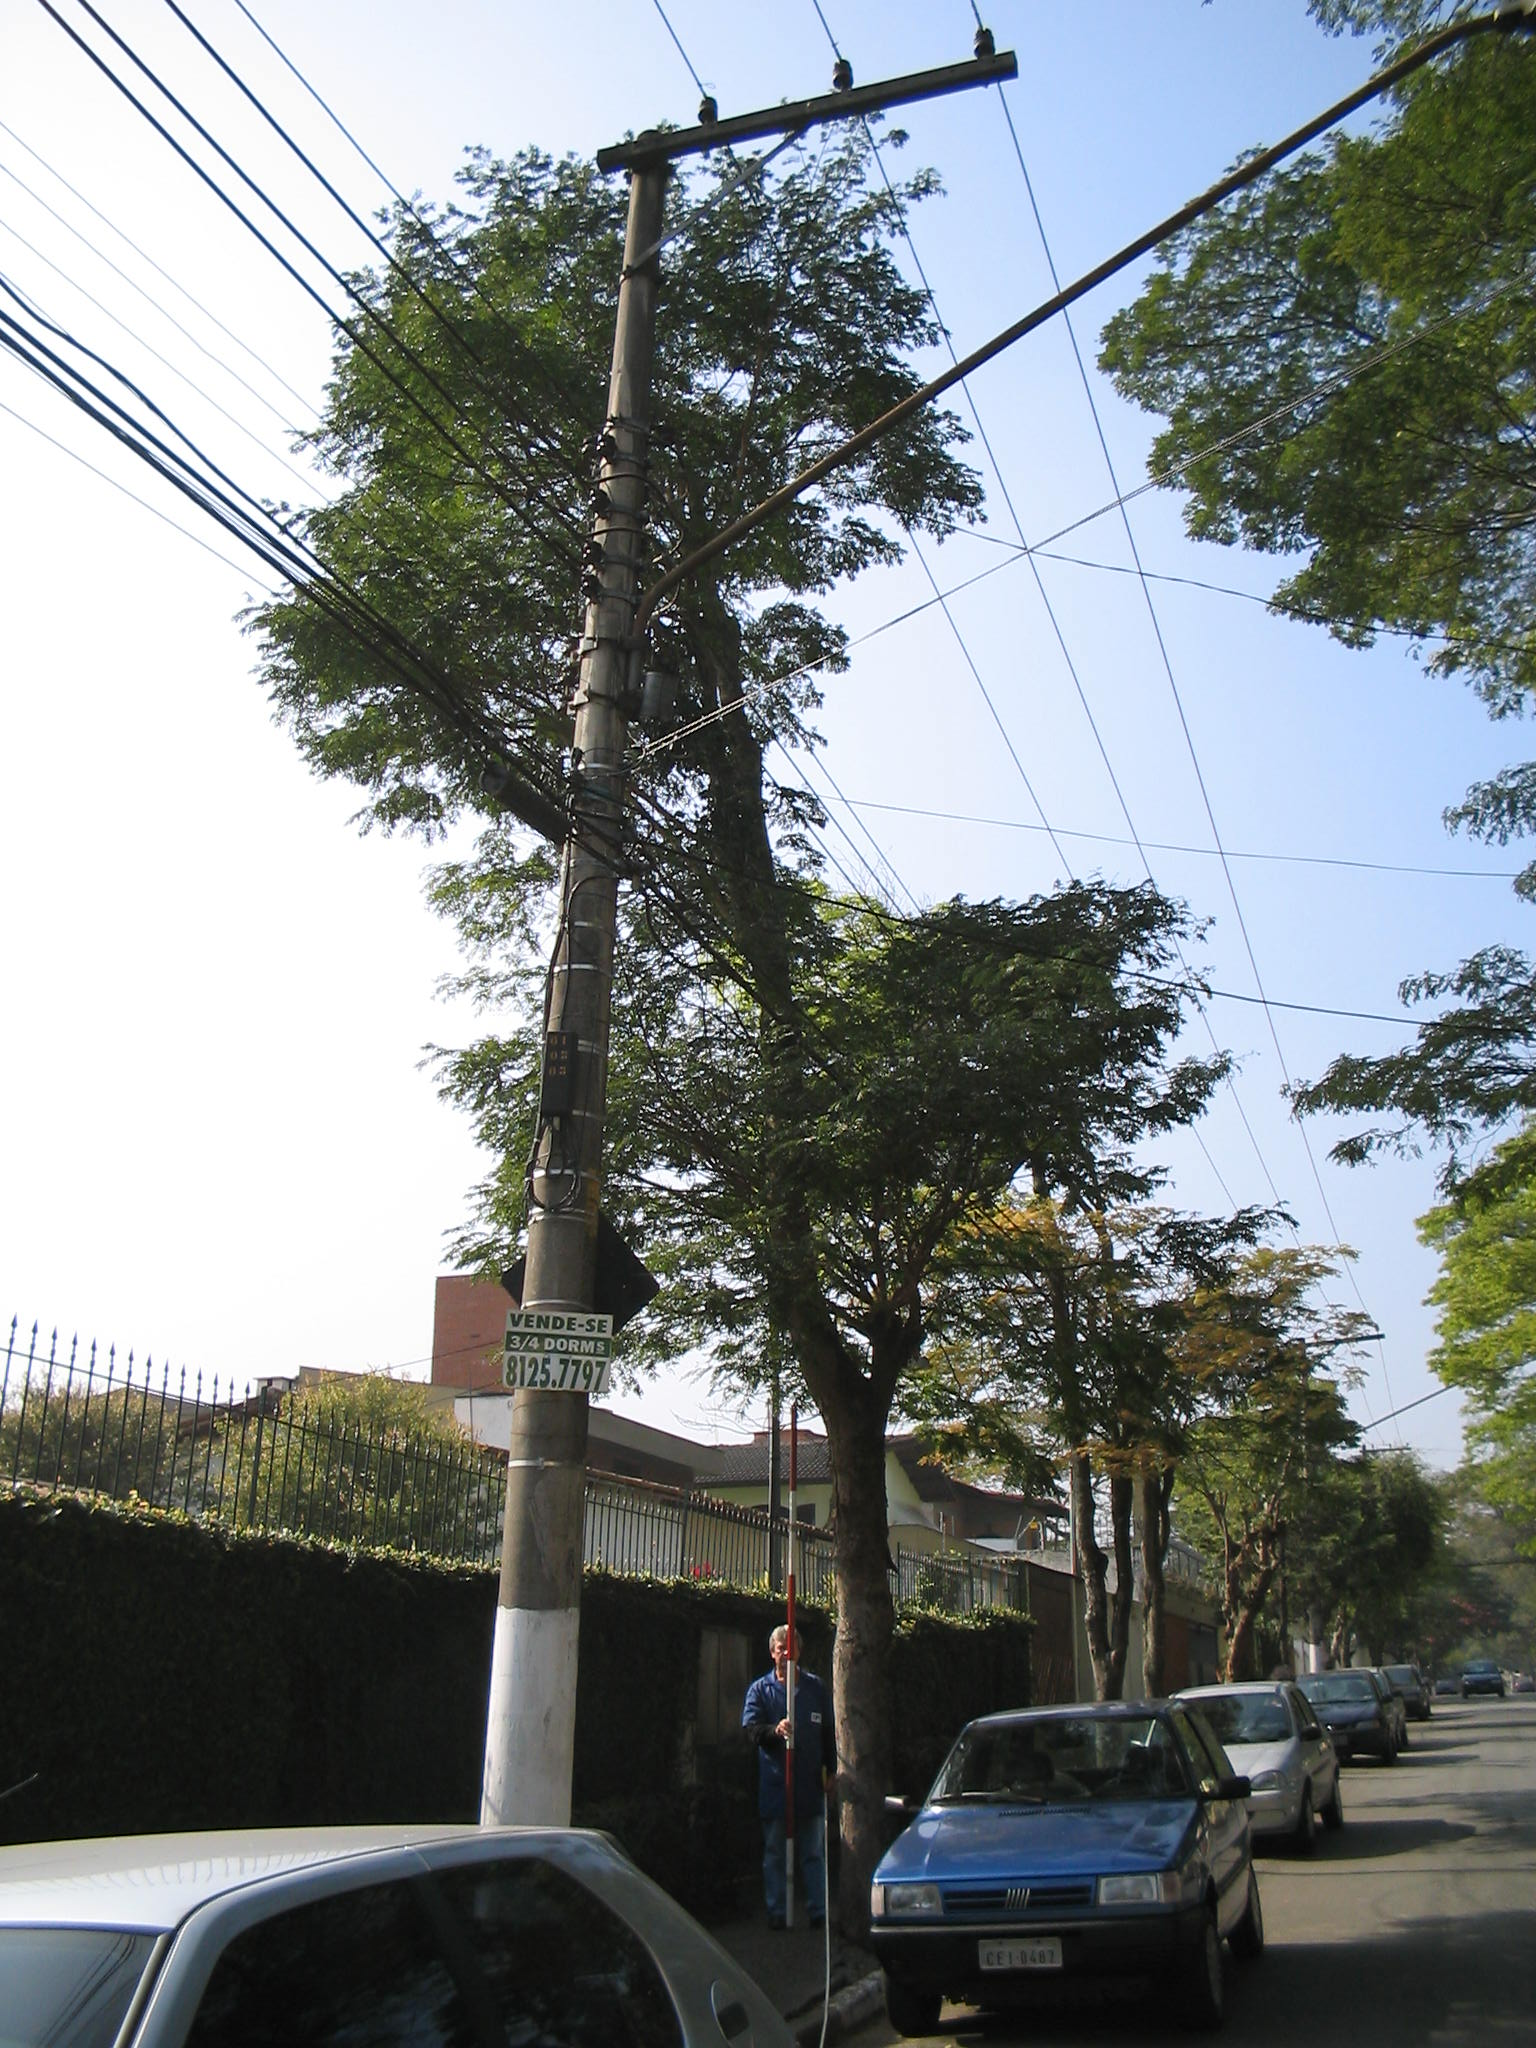crown: (252, 118, 1241, 1355)
stem: (807, 1400, 966, 1932)
stick: (755, 1403, 823, 1925)
tree: (240, 111, 1246, 1937)
